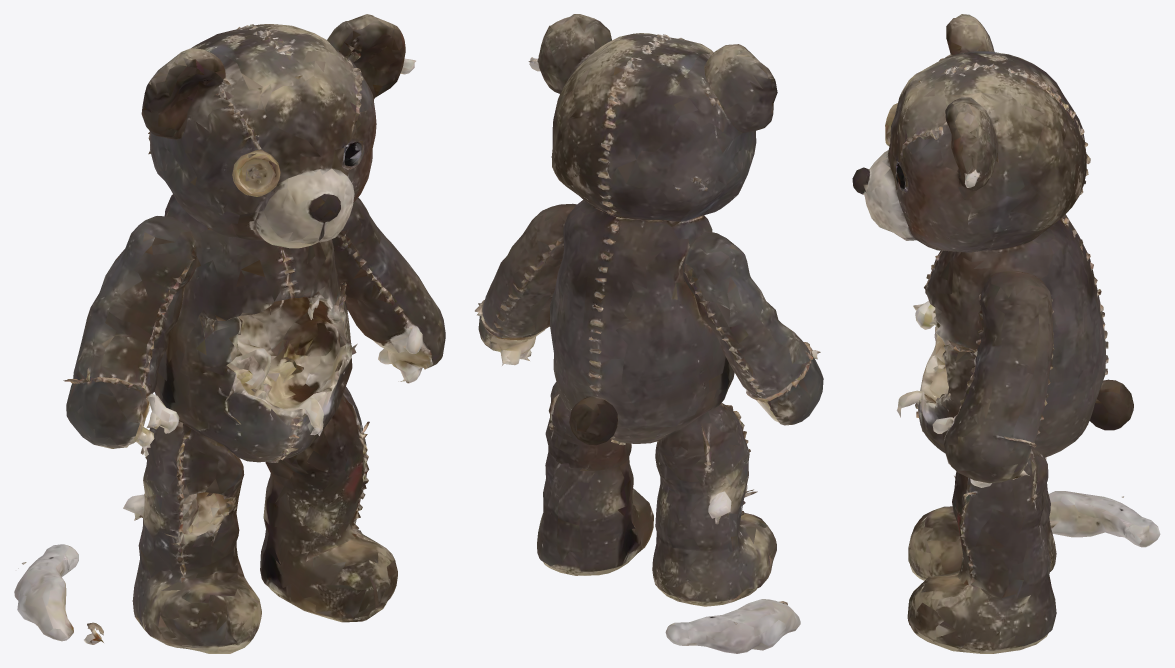
Rendered from M02_KhokhlaTeddy.glb.
3 renders of one model, left to right at view 1: azimuth 30°, elevation 25°; view 2: azimuth 150°, elevation 25°; view 3: azimuth 270°, elevation 25°, orthographic. The views are drawn at different scales.
Parts seen in each view (by area): view 1: geometry_0; view 2: geometry_0; view 3: geometry_0.
Boxes of the visible parts, x1=… form: geometry_0: x1=14, y1=14, x2=445, y2=653; geometry_0: x1=475, y1=14, x2=823, y2=653; geometry_0: x1=852, y1=14, x2=1160, y2=653.
Bounding box in the file's own units: 0.3947 × 0.6003 × 0.301.
1 material, 1 textured.
